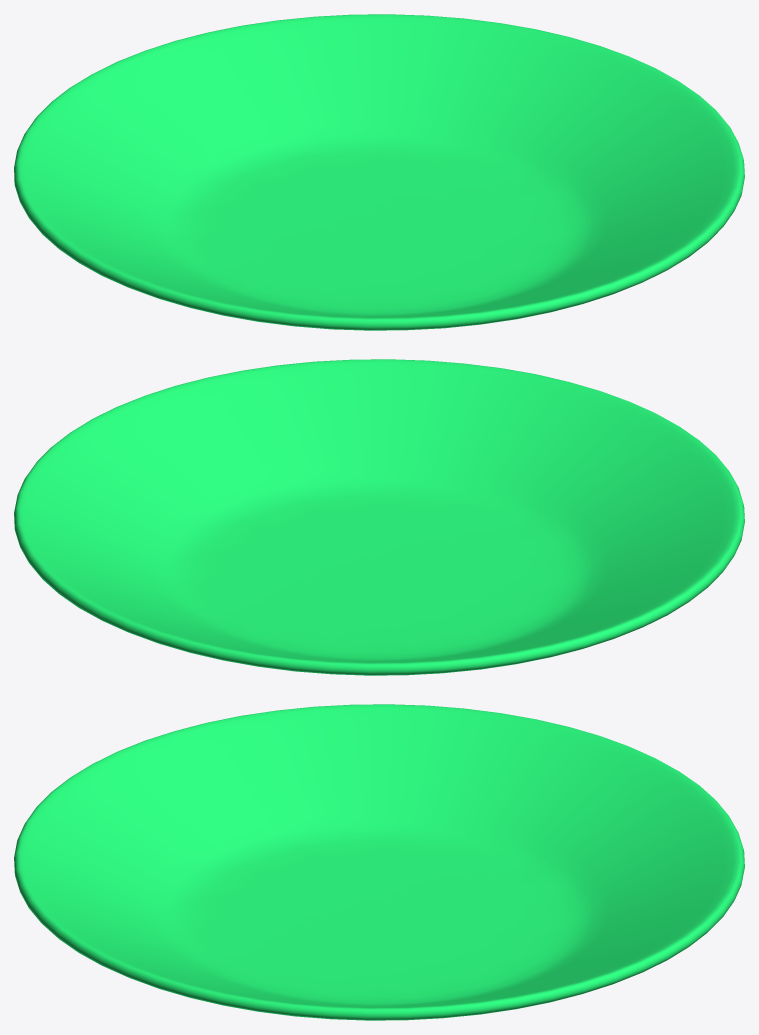
The model's file is tabak1.obj.
3 renders of one model, top to bottom at view 1: azimuth 30°, elevation 25°; view 2: azimuth 150°, elevation 25°; view 3: azimuth 270°, elevation 25°, orthographic.
Visible parts, largest first — view 1: Cylinder040; view 2: Cylinder040; view 3: Cylinder040.
Boxes of the visible parts, x1,y1,x2,y2 form: Cylinder040: [14, 14, 744, 330]; Cylinder040: [14, 359, 744, 675]; Cylinder040: [14, 704, 744, 1020].
Size of the model in its own units: 0.7338 by 0.0839 by 0.7338.
